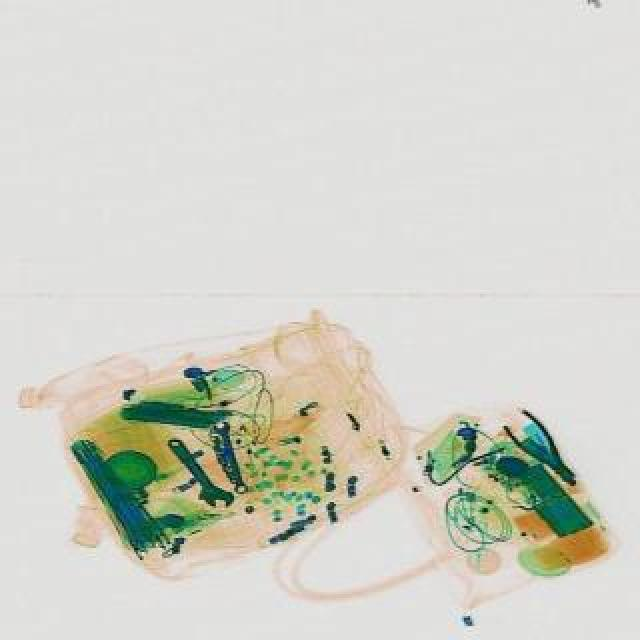scissors: (156, 430, 236, 516), (208, 418, 252, 494)
wrench: (496, 406, 584, 494)
